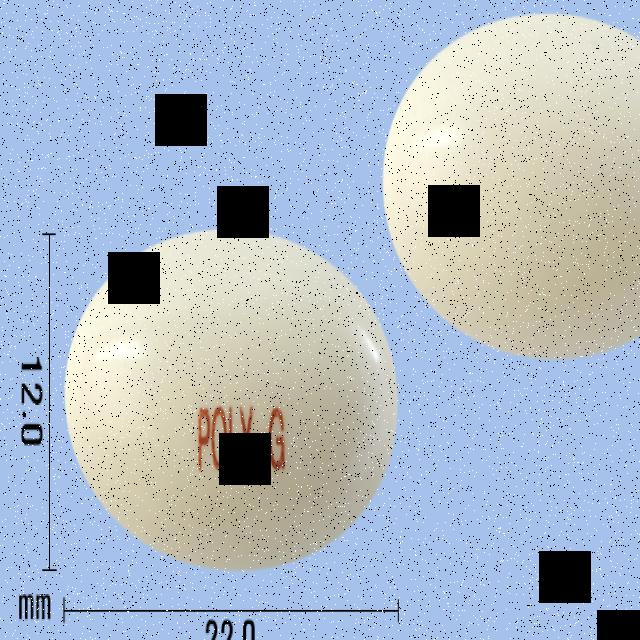Poly G Vaginal Soft Cap: (66, 224, 398, 570)
